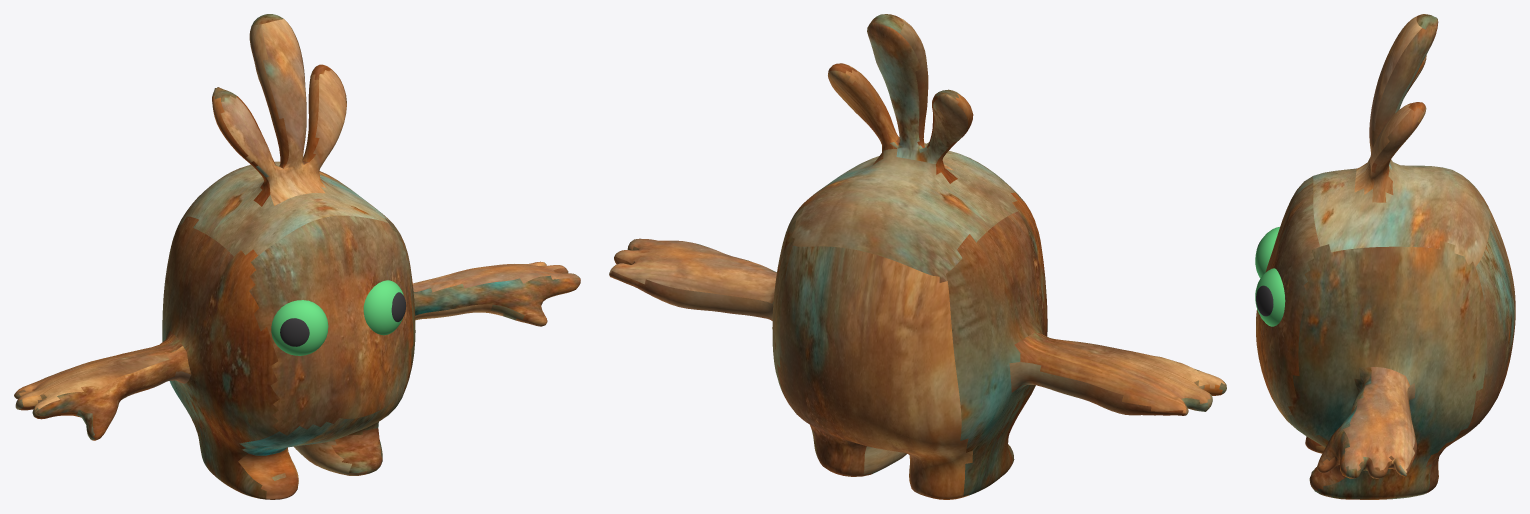
Rendered from foodplastic.glb.
The picture shows the model from 3 angles, left to right: view 1: azimuth 30°, elevation 25°; view 2: azimuth 150°, elevation 25°; view 3: azimuth 270°, elevation 25°; orthographic projection. The views are drawn at different scales.
Parts seen in each view (by area): view 1: Retopo_temp.002, 球体, 球体.001; view 2: Retopo_temp.002; view 3: Retopo_temp.002, 球体, 球体.001.
Boxes of the visible parts, x1,y1,x2,y2 form: Retopo_temp.002: (14,14,580,499); 球体: (271,280,403,355); 球体.001: (280,292,405,346); Retopo_temp.002: (609,14,1226,499); Retopo_temp.002: (1256,14,1515,499); 球体: (1255,227,1285,326); 球体.001: (1256,241,1273,316).
Size of the model in its own units: 6.36 by 4.77 by 2.5.
3 materials, 1 textured.
